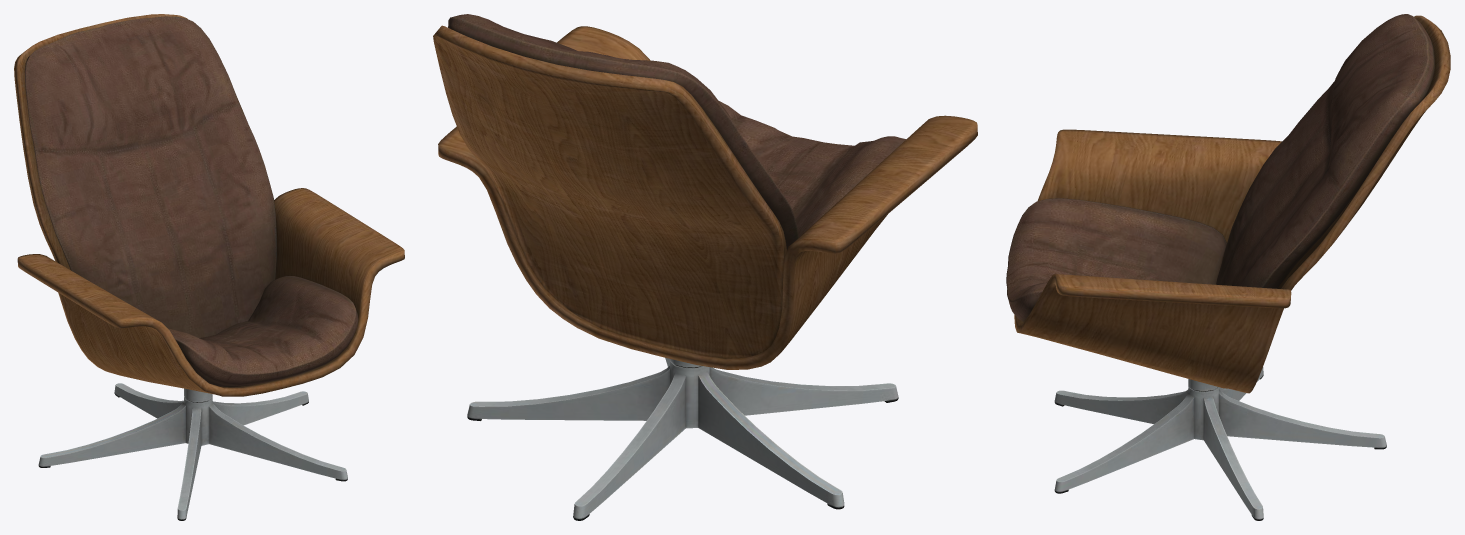
Rendered from armchair-mid-century.glb.
3 renders of one model, left to right at view 1: azimuth 30°, elevation 25°; view 2: azimuth 150°, elevation 25°; view 3: azimuth 270°, elevation 25°, orthographic. The views are drawn at different scales.
Parts seen in each view (by area): view 1: armchair-mid-century; view 2: armchair-mid-century; view 3: armchair-mid-century.
Boxes of the visible parts, bbox=[...] form: armchair-mid-century: bbox=[14, 14, 404, 520]; armchair-mid-century: bbox=[433, 14, 977, 520]; armchair-mid-century: bbox=[1006, 14, 1450, 520].
Bounding box in the file's own units: 1.01 × 1.17 × 1.19.
Materials: 3 (3 with a texture image).
